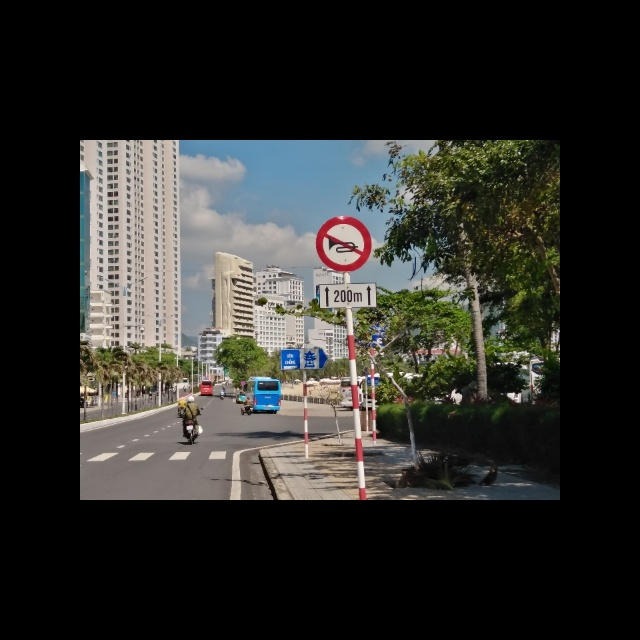Cấm bấm còi: (316, 216, 373, 271)
